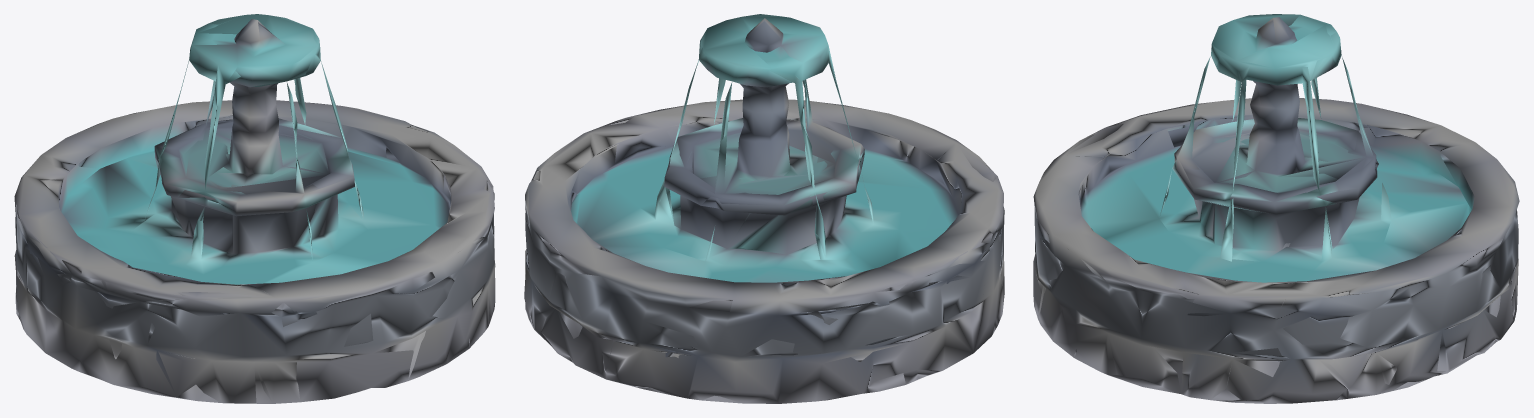
File: gen3d-park-fountain-lod0.glb
The picture shows the model from 3 angles, left to right: view 1: azimuth 30°, elevation 25°; view 2: azimuth 150°, elevation 25°; view 3: azimuth 270°, elevation 25°; orthographic projection.
Parts seen in each view (by area): view 1: part_0; view 2: part_0; view 3: part_0.
Part boxes in pixels (left/top/right/bottom): part_0: left=14, top=14, right=495, bottom=403; part_0: left=524, top=14, right=1004, bottom=403; part_0: left=1033, top=14, right=1519, bottom=403.
Bounding box in the file's own units: 1.54 × 0.9999 × 1.54.
